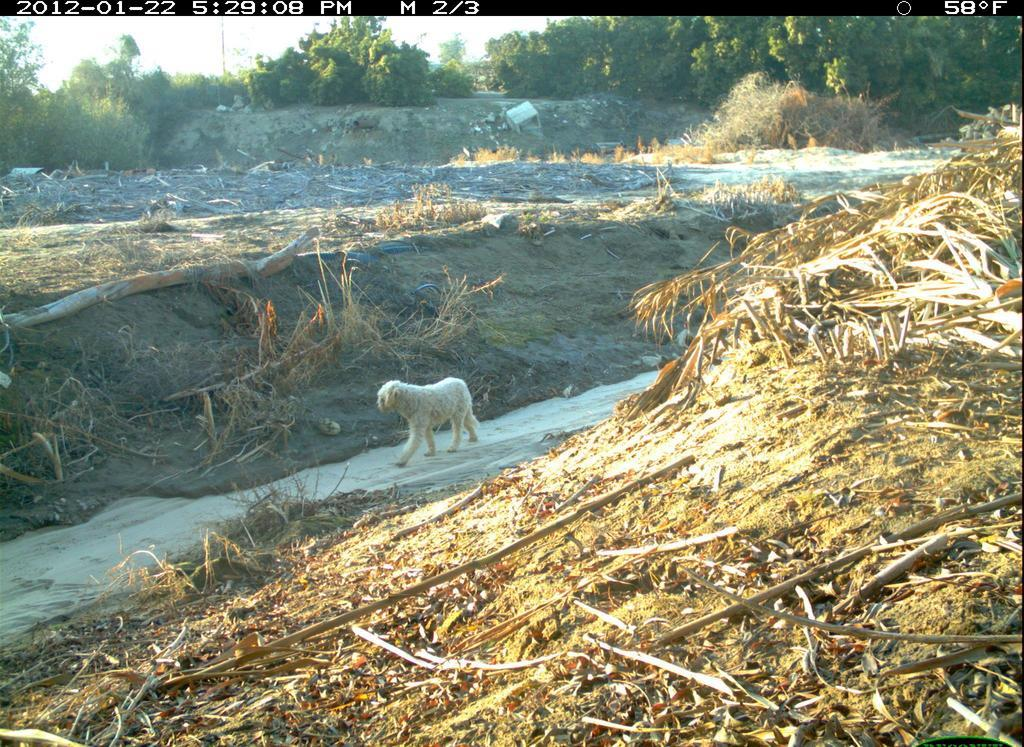dog: (379, 370, 487, 478)
